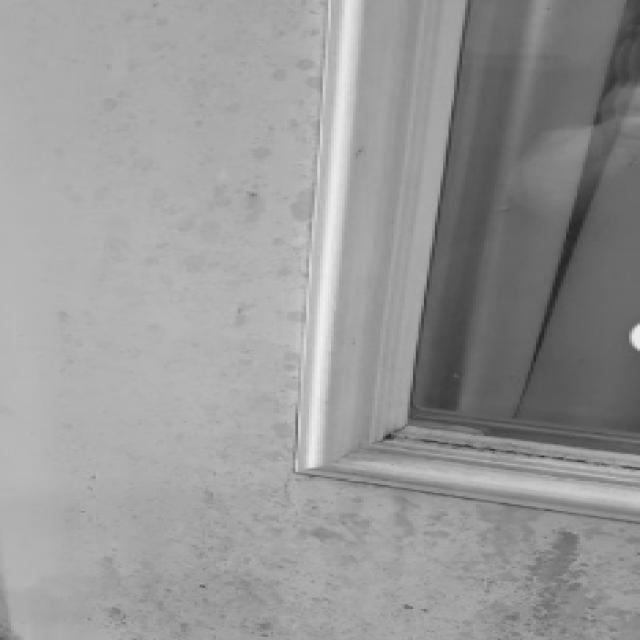stain marks: (53, 0, 309, 640), (295, 511, 640, 638)
